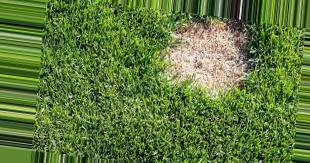patch: (170, 23, 236, 91)
